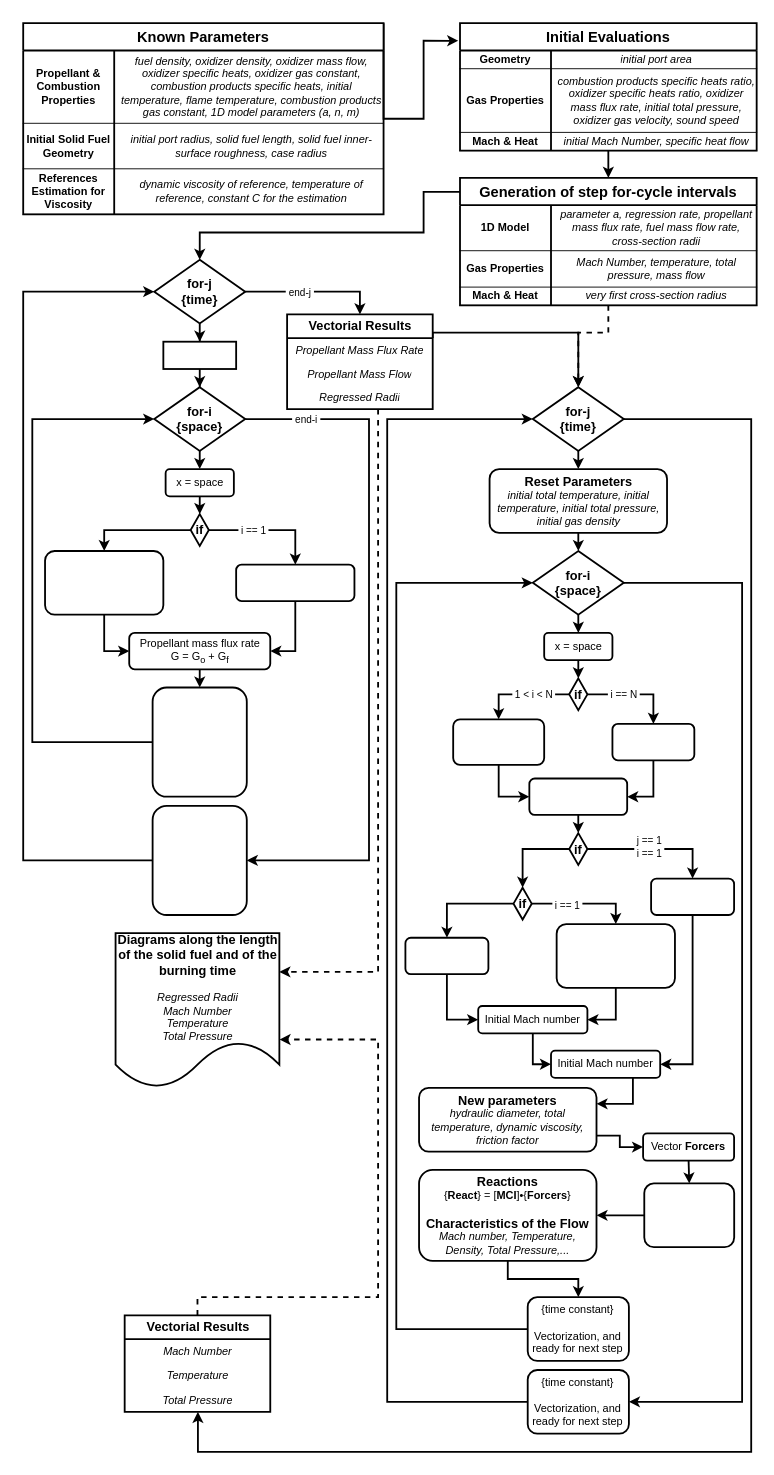
This 774x1475 diagram has some shape labels left out. Here are the shapes that lost their labels. From the top down, the centre of each, then its label:
(199,354): t = time
(104,582): Use of Trapezi's integration model for estimate the fuel mass flux rate
(295,582): Fuel mass flux rate NULL
(199,741): {time constant} Regression rate R dot = a·G n· x m Mass flow w = G·A
(498,741): parameters old (j,i) new (j,i+1)
(653,742): all parameters (j, i)
(578,796): Radii, Mass Flow
(199,859): {time variation} Regression rate R dot = a·G n· x m Mass flow w = G·A
(692,896): Reset Mach number
(446,955): Mach number constant
(615,955): Variations Initial port area initial gas velocity initial Mach number
(689,1215): MCI Matrix of the Coefficients of Influence
